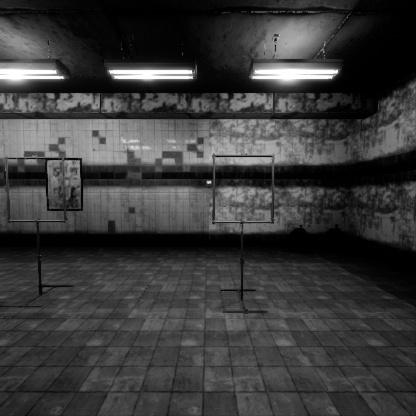gate: (212, 191, 280, 261), (5, 193, 72, 259)
